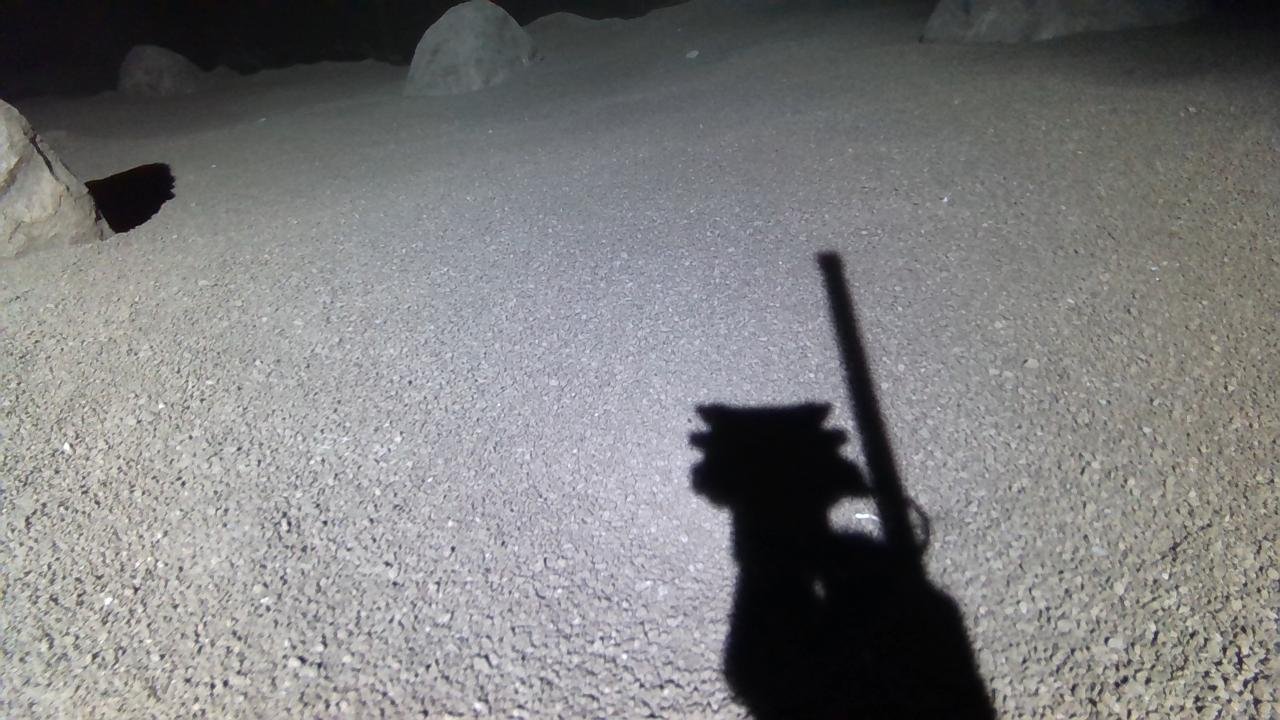rock: (0, 99, 108, 256), (403, 0, 537, 94), (923, 0, 1207, 42), (116, 43, 205, 95)
